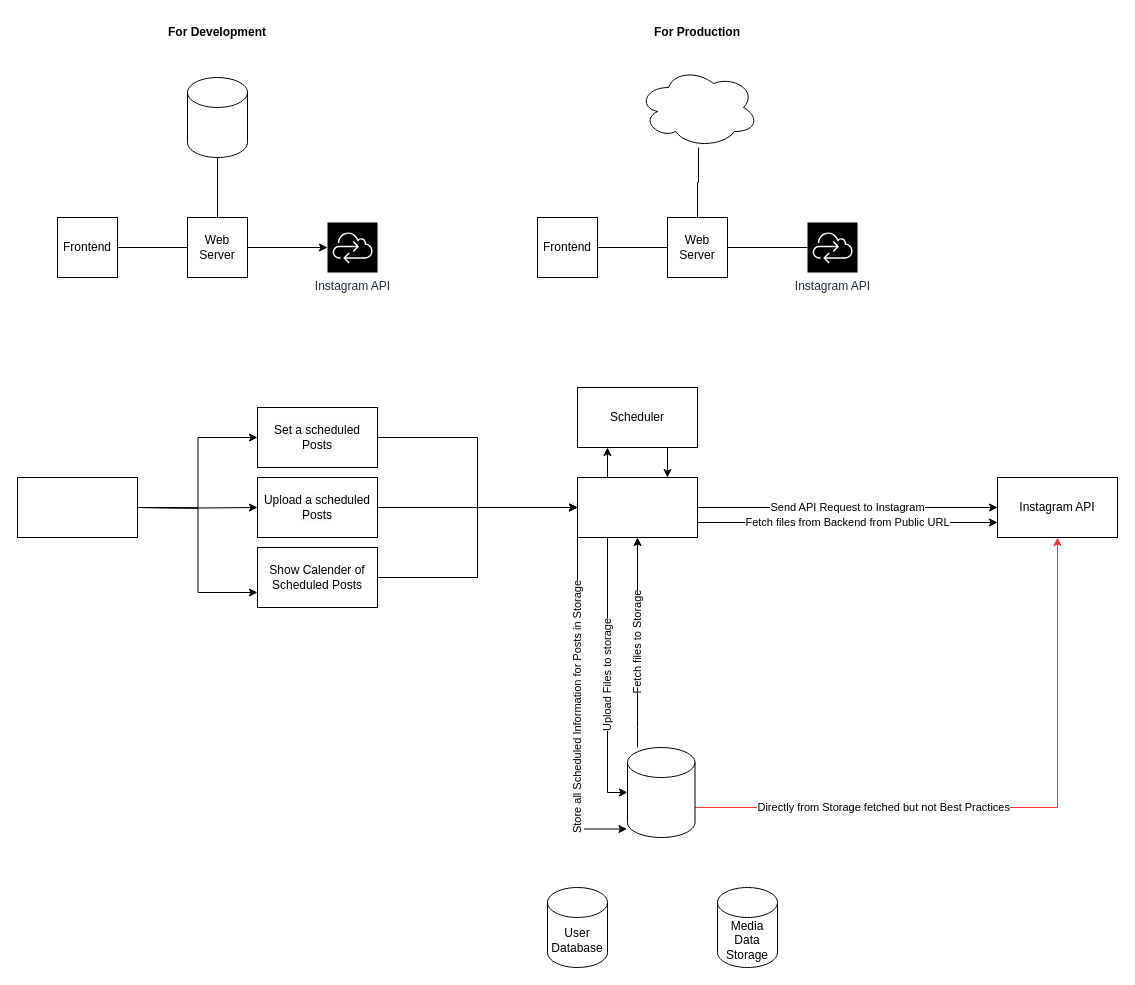
The diagram is 1135 pixels wide and 985 high, and some of its shapes have lost their labels. The shapes that lost their labels are listed below. From the top down, each one's centre as x and y in pixels, then its label:
point 217,117: Database
point 698,107: Cloud Storage
point 77,507: User Login
point 637,507: API Gateway
point 660,792: Storage
